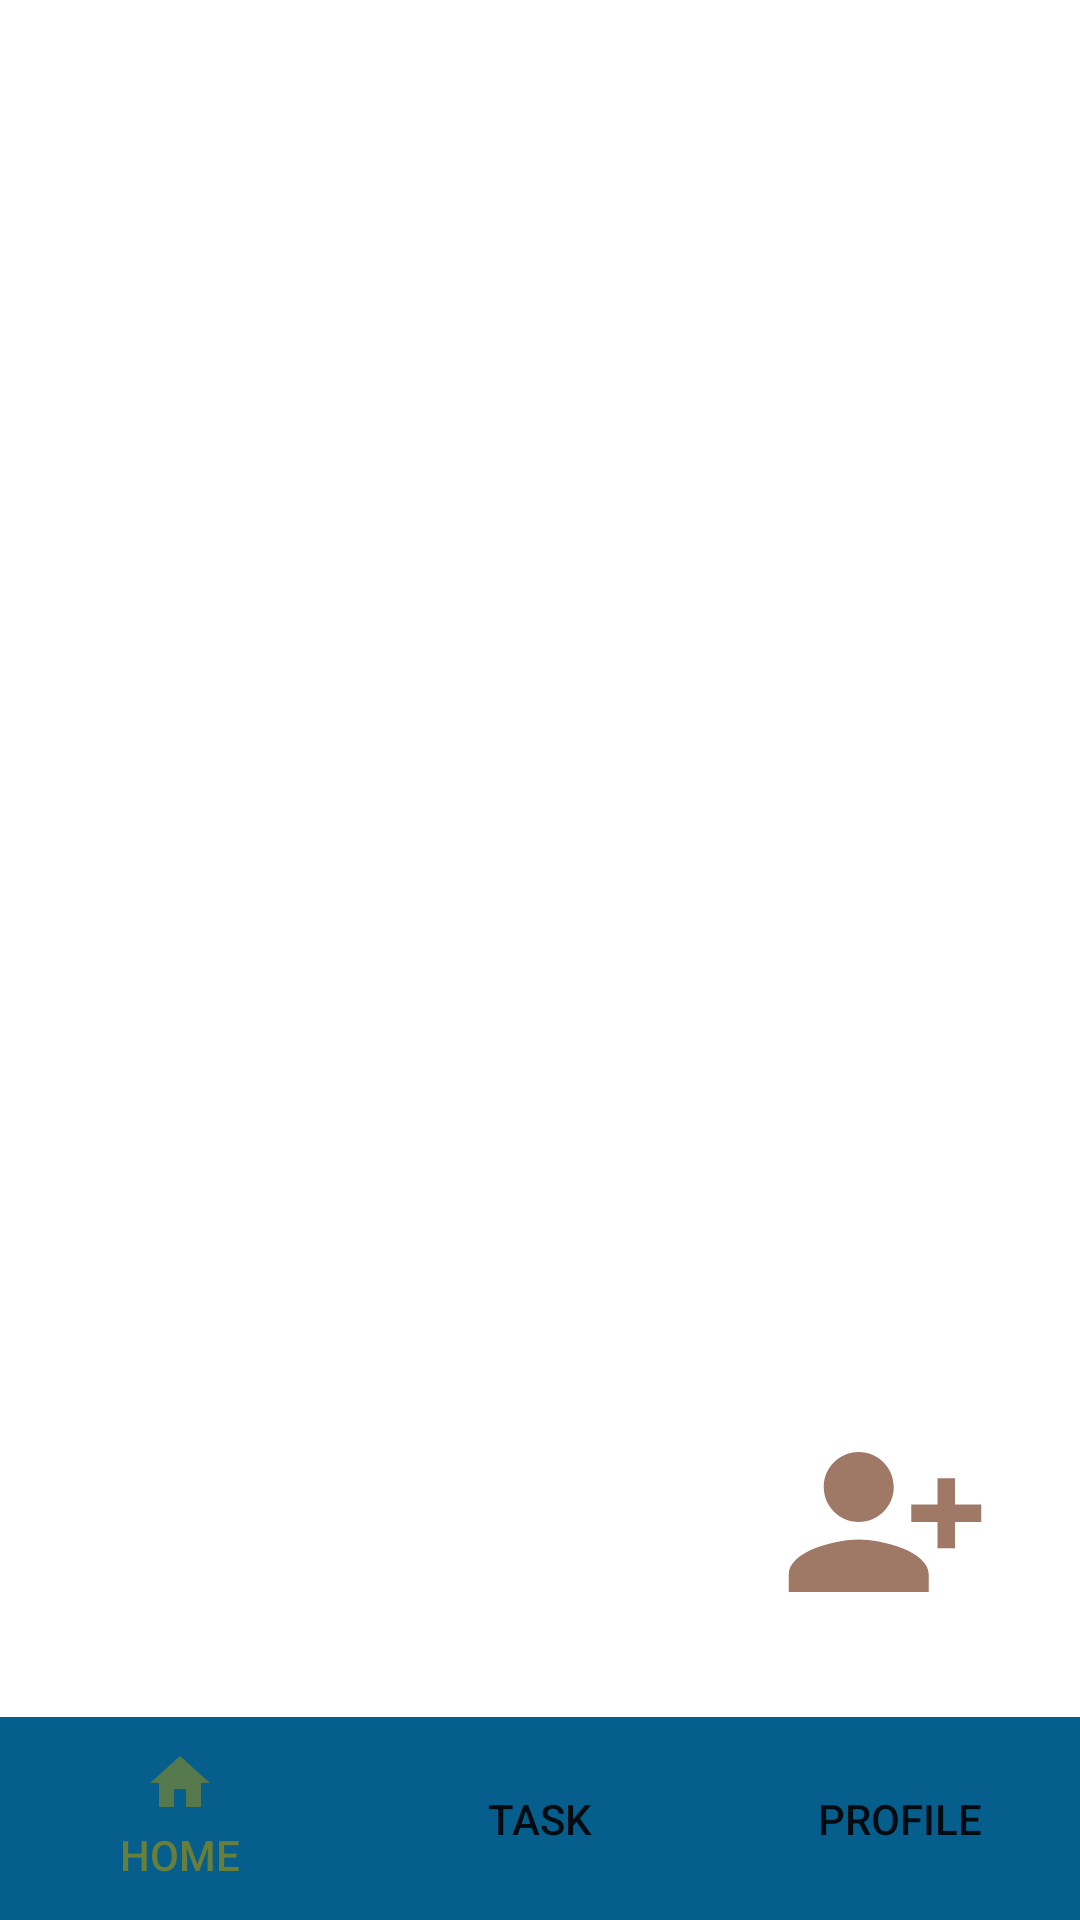

Locate icon controls on the screen. Image size 1080×1920, boxes as [left=x1, top=y1, right=x2, bottom=y2].
person add: [left=788, top=1452, right=982, bottom=1592]
